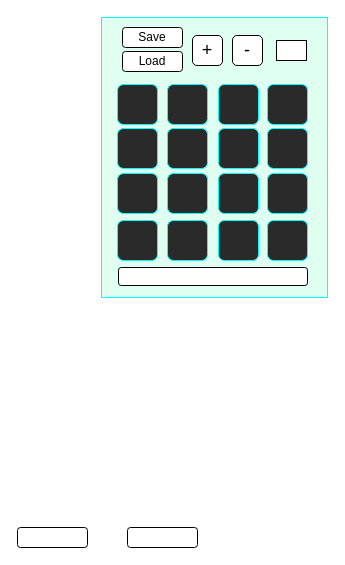
The diagram is 345 pixels wide and 565 high, and some of its shapes have lost their labels. The shapes that lost their labels are listed below. From the top down, each one's box as (x1, y1, x2, y2) in pixels, then its label:
(276, 40, 306, 60): 3 x 3
(118, 266, 308, 286): Current Palette
